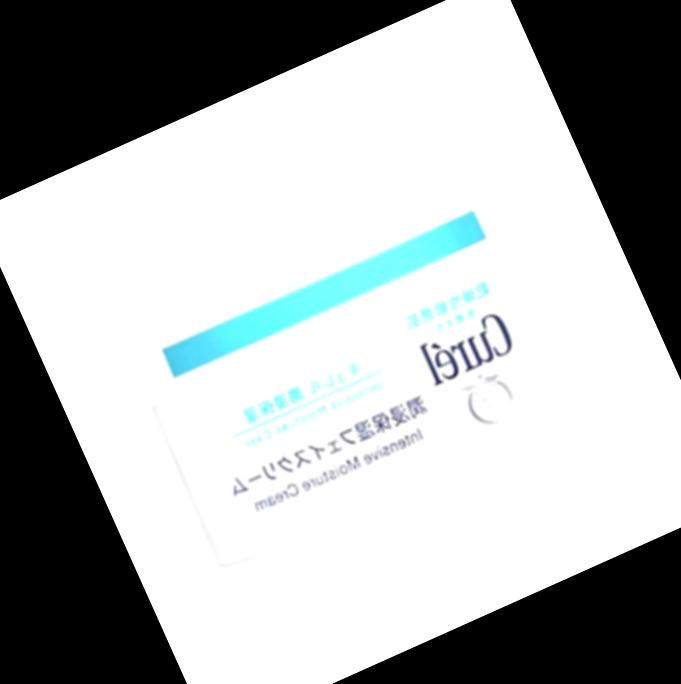cosmetic: (94, 119, 605, 571)
